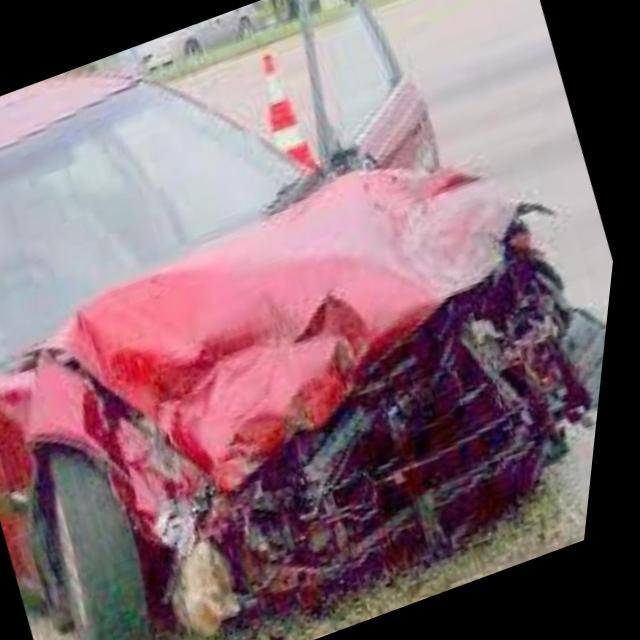no part: (35, 158, 612, 634)
